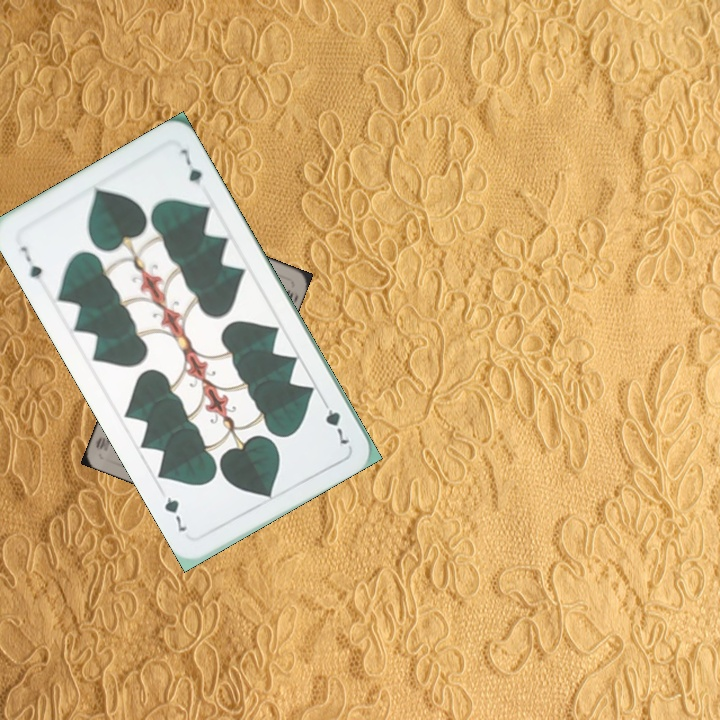G7: (317, 394, 352, 447), (16, 242, 45, 282)
